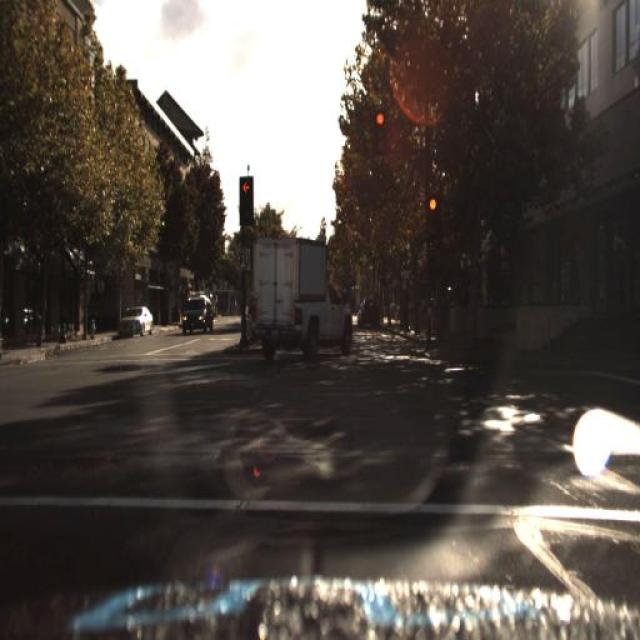car: (251, 229, 354, 362), (118, 294, 154, 337), (116, 303, 154, 341), (180, 296, 211, 334), (360, 302, 379, 328)
trafficLight-Green: (376, 110, 384, 148)
trafficLight-RedLeft: (426, 200, 438, 234)
trafficLight-Yellow: (240, 175, 254, 221)
